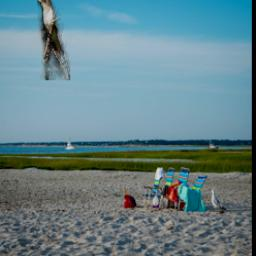Cuckoo: (37, 0, 70, 81)
